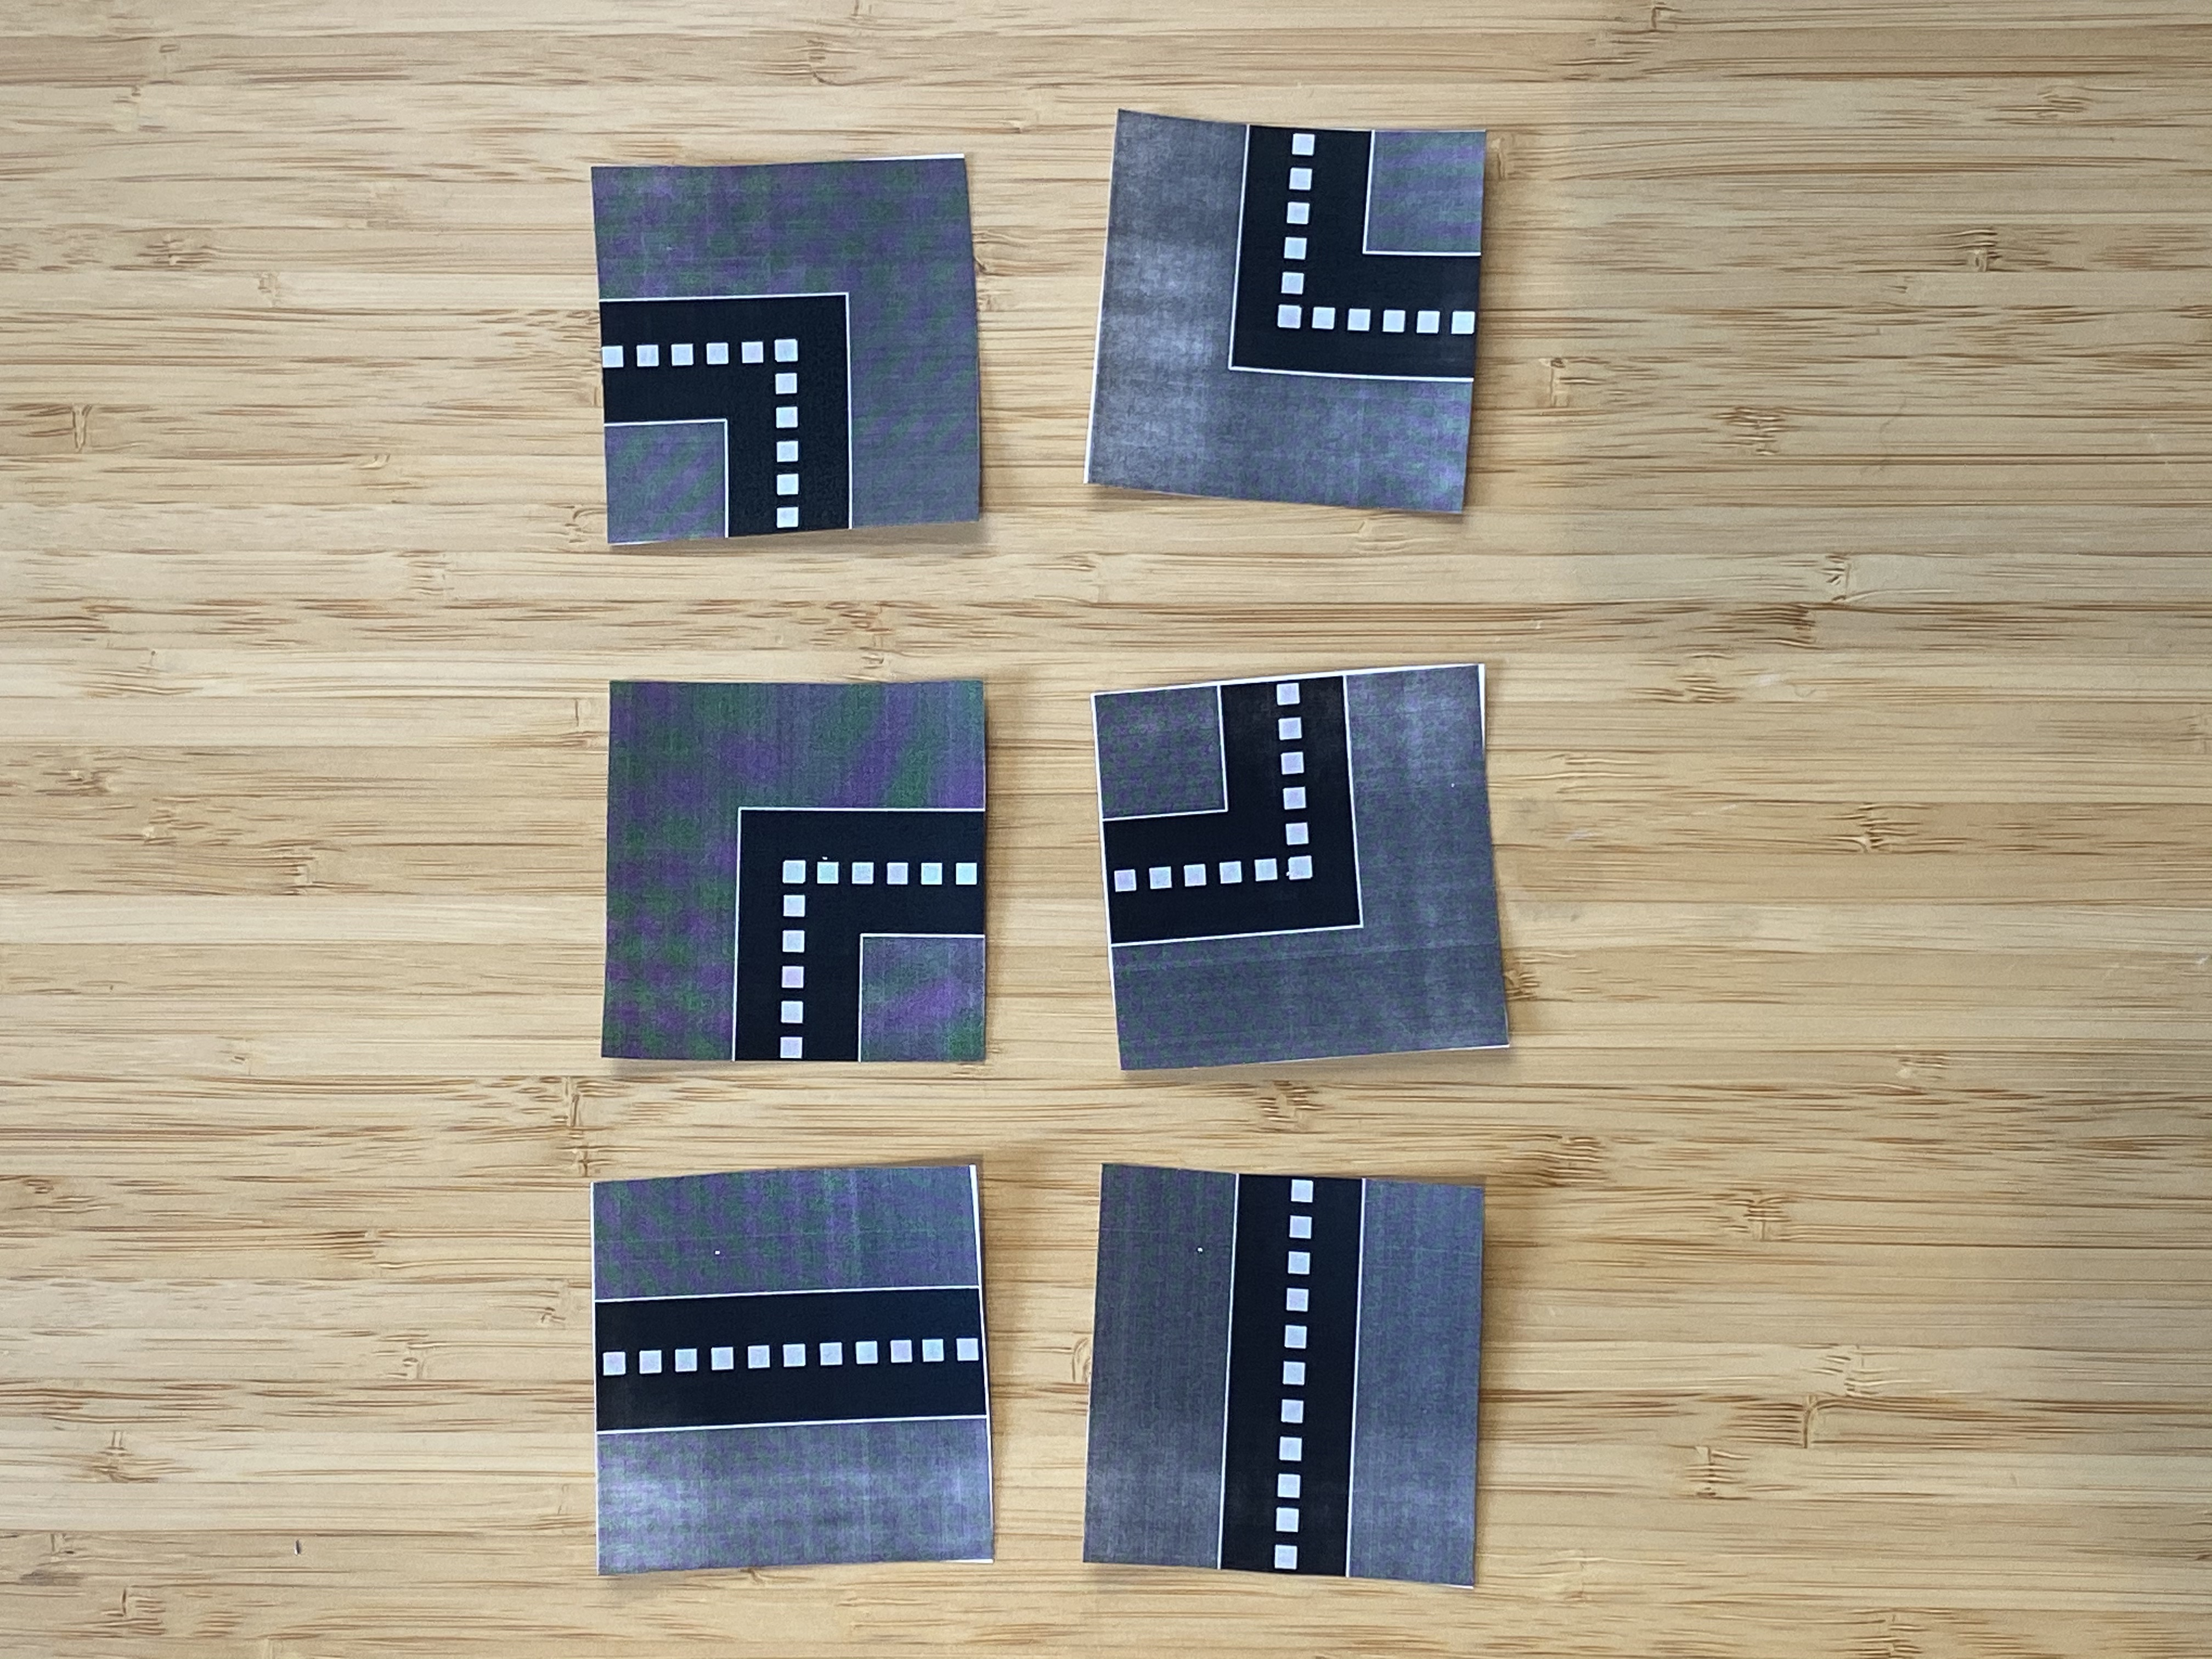down-left: (585, 159, 989, 537)
right-down: (604, 671, 986, 1070)
right-left: (583, 1154, 995, 1579)
up-down: (1096, 1148, 1482, 1582)
up-left: (1094, 657, 1519, 1070)
up-right: (1089, 101, 1489, 518)
